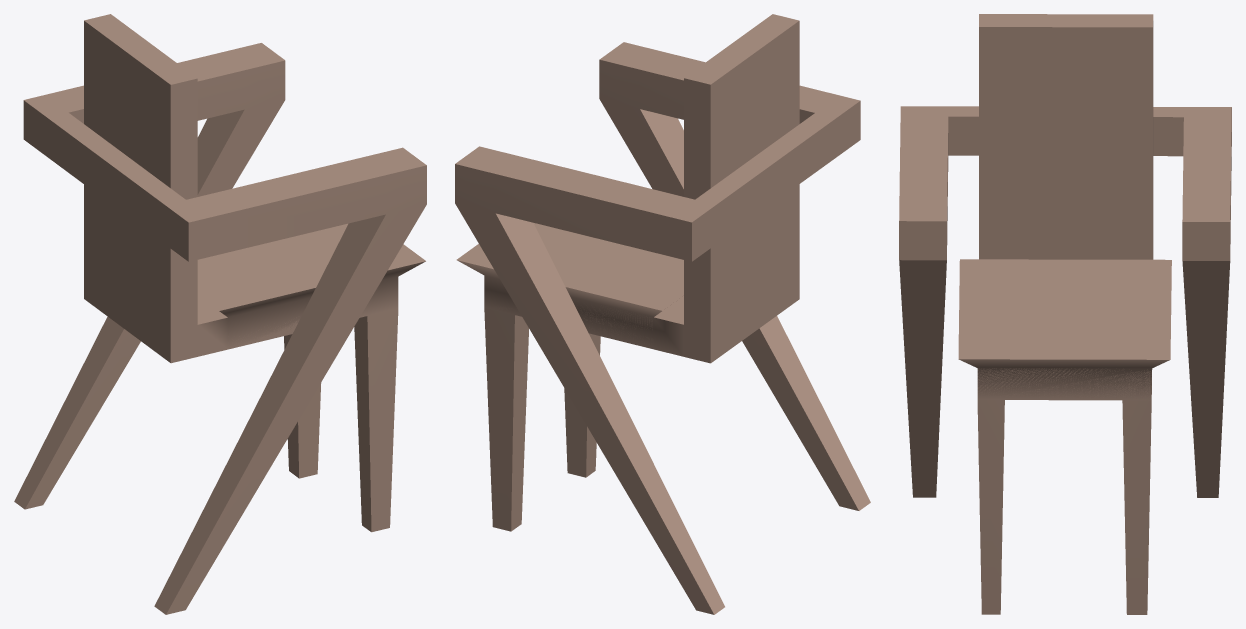
File: chair.fbx
The picture shows the model from 3 angles, left to right: view 1: azimuth 30°, elevation 25°; view 2: azimuth 150°, elevation 25°; view 3: azimuth 270°, elevation 25°; orthographic projection.
Parts seen in each view (by area): view 1: chair; view 2: chair; view 3: chair.
Boxes of the visible parts, x1,y1,x2,y2 form: chair: (14, 14, 426, 614); chair: (455, 14, 870, 614); chair: (899, 14, 1231, 614).
Size of the model in its own units: 7.45 by 12.46 by 7.61.
